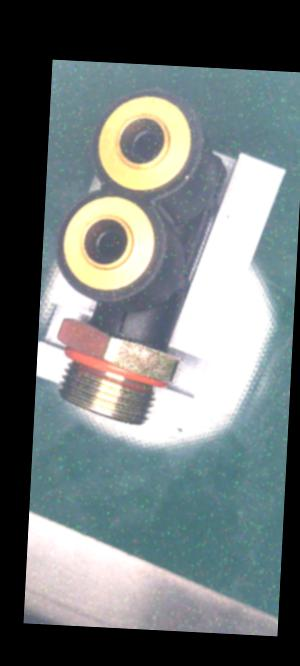craze: (112, 308, 135, 340)
